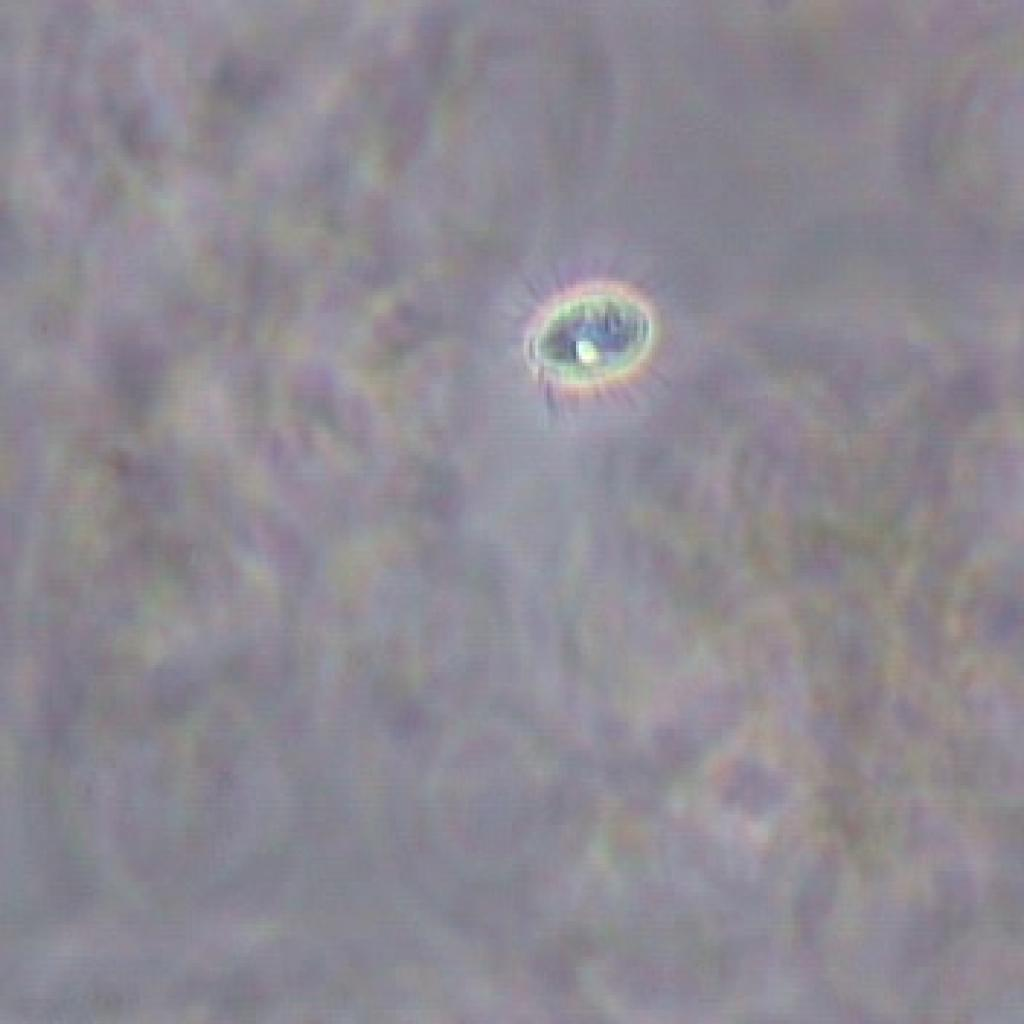Cyclidium: (487, 231, 697, 430)
